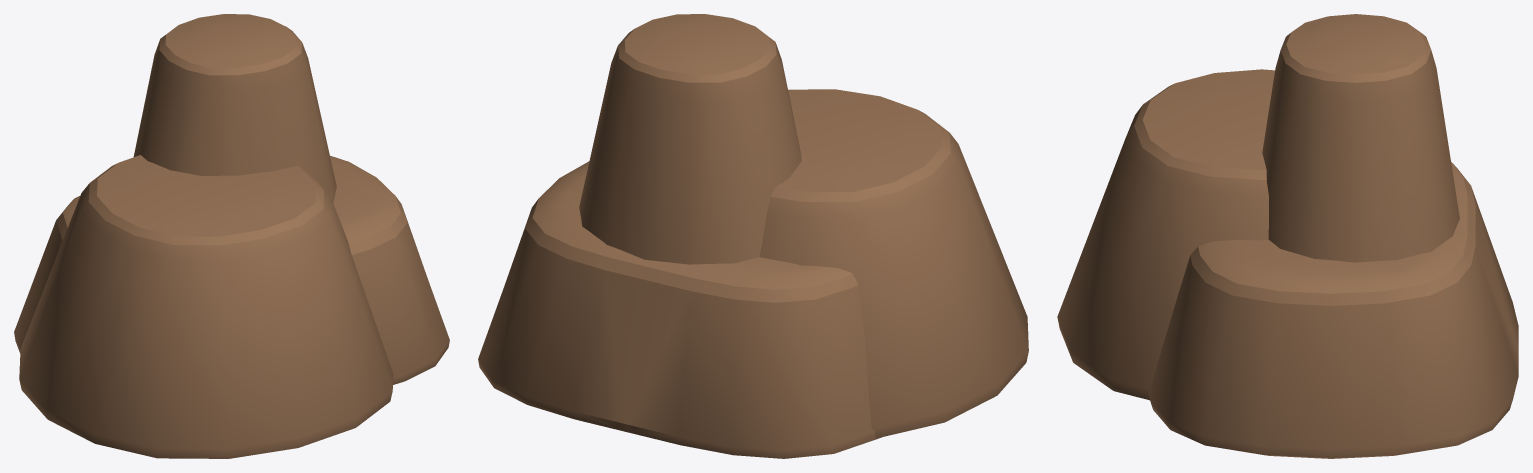
Rendered from quaternius-platformer-game-rock-platforms-3.glb.
3 renders of one model, left to right at view 1: azimuth 30°, elevation 25°; view 2: azimuth 150°, elevation 25°; view 3: azimuth 270°, elevation 25°, orthographic. The views are drawn at different scales.
Visible parts, largest first — view 1: RockPlatforms_3; view 2: RockPlatforms_3; view 3: RockPlatforms_3.
Part boxes in pixels (x1,y1,x2,y2): RockPlatforms_3: (14, 14, 449, 458); RockPlatforms_3: (478, 14, 1028, 458); RockPlatforms_3: (1057, 14, 1518, 458).
Bounding box in the file's own units: 6 × 4.38 × 5.44.
